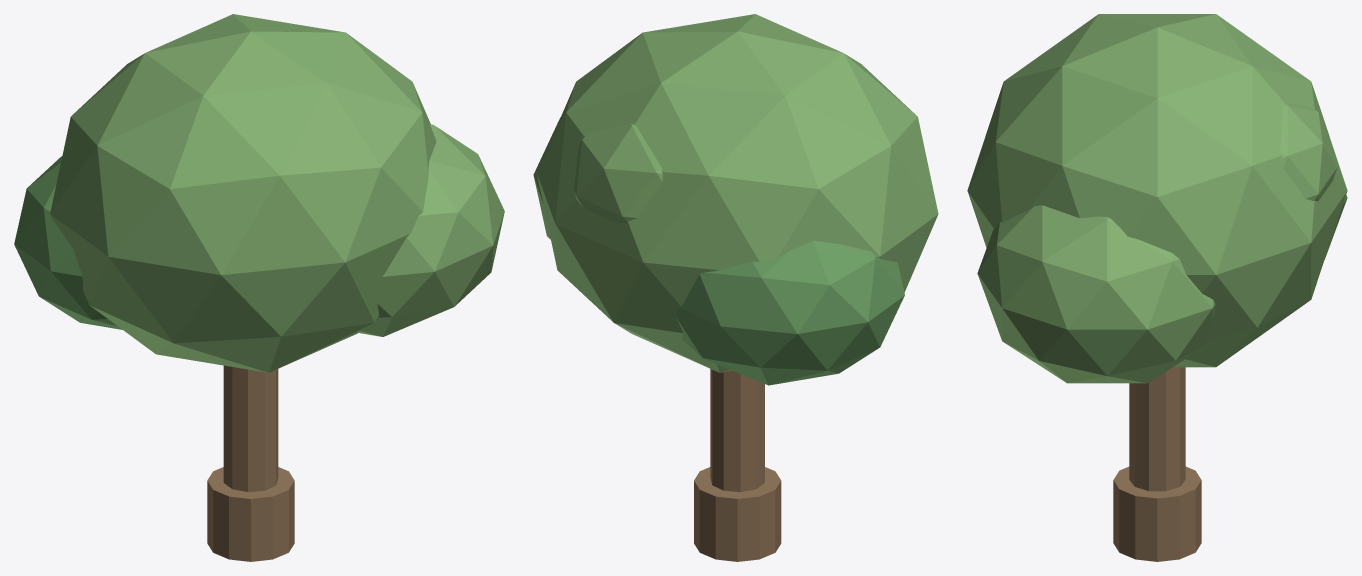
Rendered from SM_Tree_Broadleaf_A.fbx.
The picture shows the model from 3 angles, left to right: view 1: azimuth 30°, elevation 25°; view 2: azimuth 150°, elevation 25°; view 3: azimuth 270°, elevation 25°; orthographic projection.
Parts seen in each view (by area): view 1: SM_Tree_Broadleaf_A; view 2: SM_Tree_Broadleaf_A; view 3: SM_Tree_Broadleaf_A.
Part boxes in pixels (bbox=[...]): SM_Tree_Broadleaf_A: bbox=[14, 14, 504, 561]; SM_Tree_Broadleaf_A: bbox=[533, 14, 938, 561]; SM_Tree_Broadleaf_A: bbox=[967, 14, 1347, 561].
Bounding box in the file's own units: 2.28 × 2.84 × 1.9.
